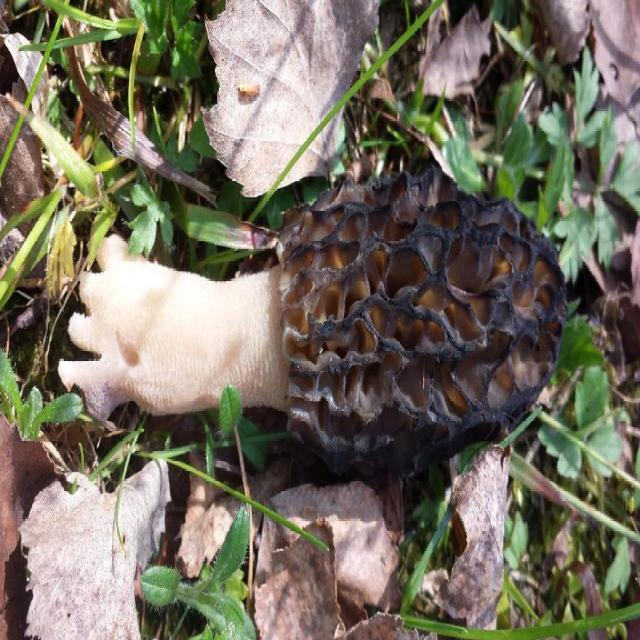Morchella esculenta: (57, 183, 568, 459)
